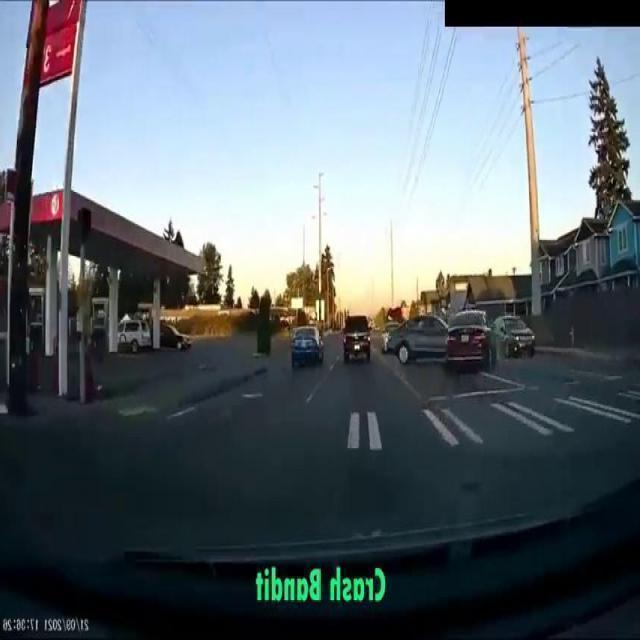multiple_accident: (390, 303, 504, 383)
normal: (260, 293, 381, 386)
